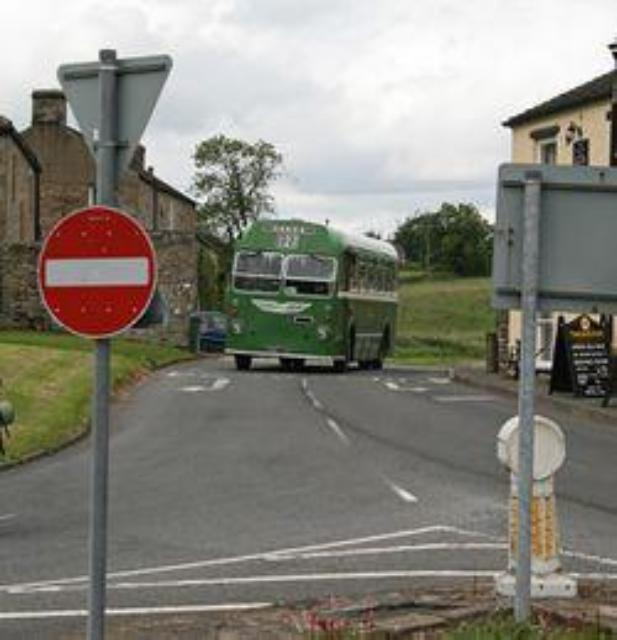B2: (32, 201, 160, 341)
